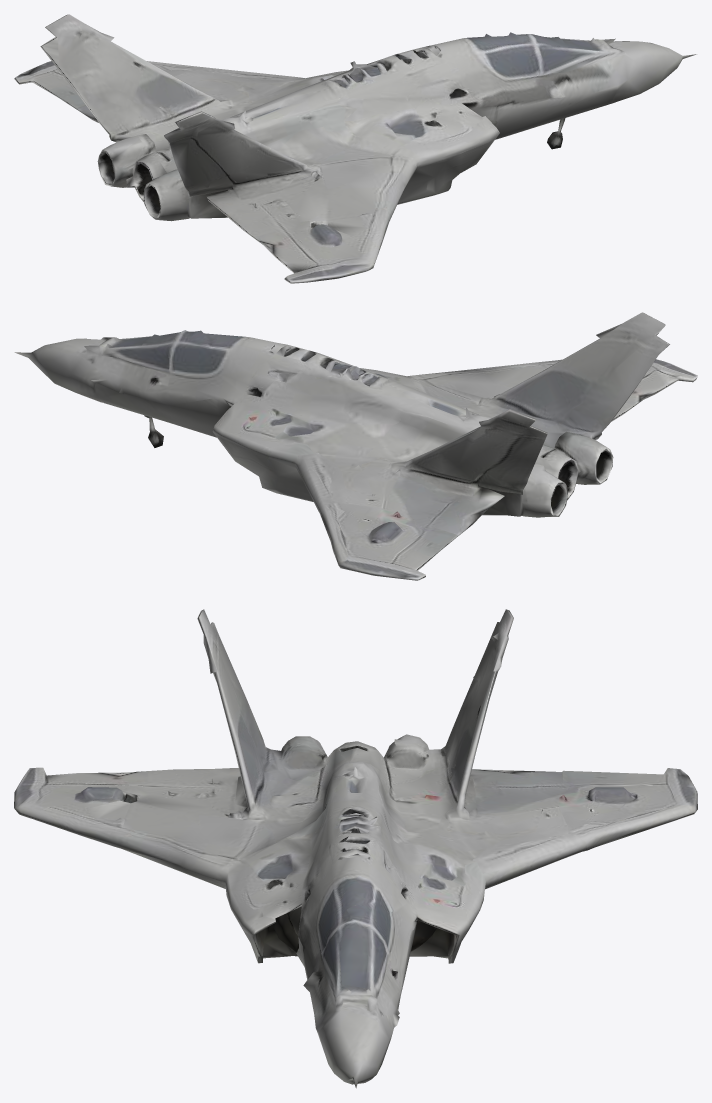
The model's file is jet.glb.
3 views of the same model, one above another, from view 1: azimuth 30°, elevation 25°; view 2: azimuth 150°, elevation 25°; view 3: azimuth 270°, elevation 25° (orthographic). The views are drawn at different scales.
Visible parts, largest first — view 1: tripo_node_9779f4ee-f20e-4b6c-bd51-6f805126c7fa; view 2: tripo_node_9779f4ee-f20e-4b6c-bd51-6f805126c7fa; view 3: tripo_node_9779f4ee-f20e-4b6c-bd51-6f805126c7fa.
Boxes of the visible parts, <box> form: tripo_node_9779f4ee-f20e-4b6c-bd51-6f805126c7fa: <box>14,14,696,283</box>; tripo_node_9779f4ee-f20e-4b6c-bd51-6f805126c7fa: <box>14,312,697,580</box>; tripo_node_9779f4ee-f20e-4b6c-bd51-6f805126c7fa: <box>14,609,697,1088</box>.
Bounding box in the file's own units: 1 × 0.3036 × 0.8497.
Materials: 1 (1 with a texture image).
